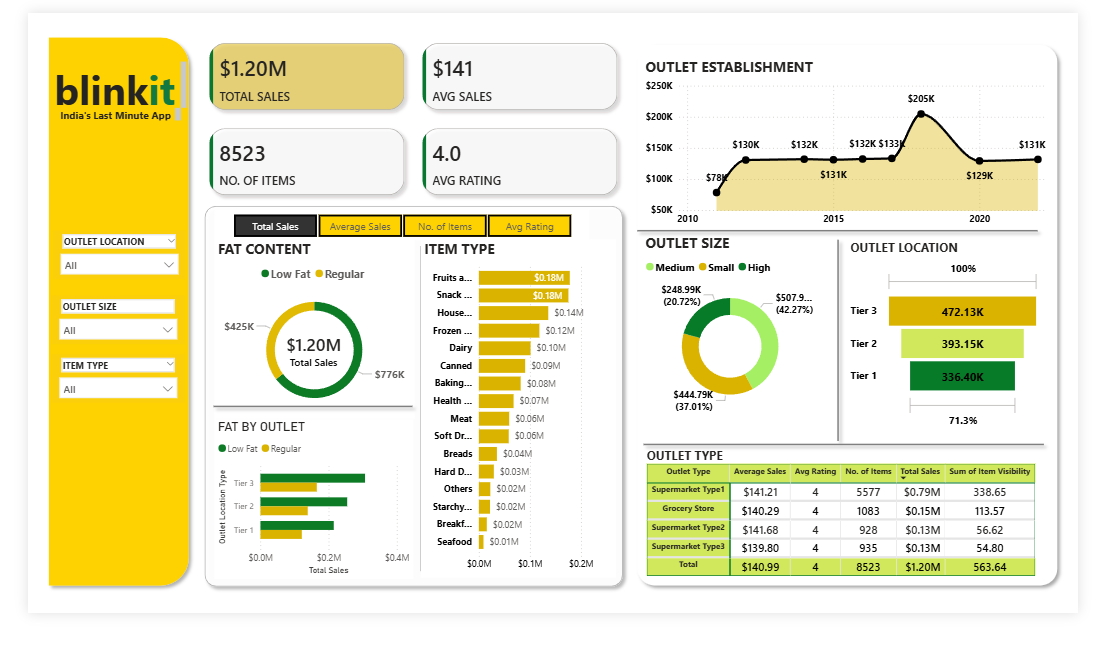

This screenshot's page, from the dashboard's own definition file:
{"tool":"powerbi","page":{"name":"Page 1","canvas":[1400,800],"ordinal":0},"visuals":[{"type":"shape","box":[18.8,24.1,205.1,749.3],"z":0},{"type":"textbox","box":[29.5,59.3,186.3,76.4],"z":1000},{"type":"textbox","box":[37.5,122.4,170.2,26.8],"z":2000},{"type":"cardVisual","fields":{"Data":["Blinkit Grocery Data.Total Sales","Blinkit Grocery Data.Average Sales","Blinkit Grocery Data.No. of Items","Blinkit Grocery Data.Avg Rating"]},"box":[224.3,23.6,578.4,237.6],"z":3000},{"type":"shape","box":[227.2,247.9,575.5,525.3],"z":4000},{"type":"slicer","fields":{"Values":["Metrics.Metrics"]},"box":[247.9,261.2,500.2,41.3],"z":5000},{"type":"donutChart","title":"FAT CONTENT","fields":{"Y":["Blinkit Grocery Data.Total Sales"],"Category":["Blinkit Grocery Data.Item Fat Content"]},"box":[247.9,302.5,267.1,239],"z":6000},{"type":"cardVisual","fields":{"Data":["Blinkit Grocery Data.Total Sales"]},"box":[337.9,422,85.6,56.1],"z":7000},{"type":"clusteredBarChart","title":"FAT BY OUTLET","fields":{"Y":["Blinkit Grocery Data.Total Sales"],"Category":["Blinkit Grocery Data.Outlet Location Type"],"Series":["Blinkit Grocery Data.Item Fat Content"]},"box":[247.9,541.5,265.6,212.5],"z":8000},{"type":"shape","box":[239,509.1,283.3,32.5],"z":9000},{"type":"shape","box":[515,302.5,13.3,451.5],"z":10000},{"type":"barChart","title":"ITEM TYPE","fields":{"Y":["Blinkit Grocery Data.Total Sales"],"Category":["Blinkit Grocery Data.Item Type"]},"box":[523.8,302.5,261.2,451.5],"z":11000},{"type":"shape","box":[802.7,33.9,578.4,739.3],"z":12000},{"type":"lineChart","title":"OUTLET ESTABLISHMENT","fields":{"Category":["Blinkit Grocery Data.Outlet Establishment Year"],"Y":["Blinkit Grocery Data.Total Sales"]},"box":[818.9,59,547.4,234.6],"z":13000},{"type":"donutChart","title":"OUTLET SIZE","fields":{"Y":["Blinkit Grocery Data.Total Sales"],"Category":["Blinkit Grocery Data.Outlet Size"]},"box":[818.9,293.6,236.1,247.9],"z":14000},{"type":"funnel","title":"OUTLET LOCATION","fields":{"Y":["Sum(Blinkit Grocery Data.Sales)"],"Category":["Blinkit Grocery Data.Outlet Location Type"]},"box":[1091.9,302.5,262.6,256.7],"z":15000},{"type":"pivotTable","title":"OUTLET TYPE","fields":{"Rows":["Blinkit Grocery Data.Outlet Type"],"Values":["Blinkit Grocery Data.Average Sales","Blinkit Grocery Data.Avg Rating","Blinkit Grocery Data.No. of Items","Blinkit Grocery Data.Total Sales","Sum(Blinkit Grocery Data.Item Visibility)"]},"box":[820.4,578.4,547.4,194.8],"z":16000},{"type":"shape","box":[1055,293.6,50.2,286.3],"z":17000},{"type":"shape","box":[802.7,267.1,551.9,47.2],"z":18000},{"type":"shape","box":[811.6,551.9,551.9,47.2],"z":19000},{"type":"slicer","fields":{"Values":["Blinkit Grocery Data.Outlet Location Type"]},"box":[33.9,290.7,177.1,64.9],"z":20000},{"type":"slicer","fields":{"Values":["Blinkit Grocery Data.Outlet Size"]},"box":[32.5,376.3,177.1,64.9],"z":21000},{"type":"slicer","fields":{"Values":["Blinkit Grocery Data.Item Type"]},"box":[32.5,454.5,177.1,64.9],"z":22000}]}

Visuals, with their boxes in screenshot pixels (x1, y1, x2, y2), scaled from the page's 1400x800 canvas onto the 1106x645 screenshot:
shape: {"left": 15, "top": 19, "right": 177, "bottom": 624}
textbox: {"left": 23, "top": 48, "right": 170, "bottom": 109}
textbox: {"left": 30, "top": 99, "right": 164, "bottom": 120}
cardVisual - Blinkit Grocery Data.Total Sales x Blinkit Grocery Data.Average Sales: {"left": 177, "top": 19, "right": 634, "bottom": 211}
shape: {"left": 179, "top": 200, "right": 634, "bottom": 623}
slicer - Metrics.Metrics: {"left": 196, "top": 211, "right": 591, "bottom": 244}
"FAT CONTENT" donutChart: {"left": 196, "top": 244, "right": 407, "bottom": 437}
cardVisual - Blinkit Grocery Data.Total Sales: {"left": 267, "top": 340, "right": 335, "bottom": 385}
"FAT BY OUTLET" clusteredBarChart: {"left": 196, "top": 437, "right": 406, "bottom": 608}
shape: {"left": 189, "top": 410, "right": 413, "bottom": 437}
shape: {"left": 407, "top": 244, "right": 417, "bottom": 608}
"ITEM TYPE" barChart: {"left": 414, "top": 244, "right": 620, "bottom": 608}
shape: {"left": 634, "top": 27, "right": 1091, "bottom": 623}
"OUTLET ESTABLISHMENT" lineChart: {"left": 647, "top": 48, "right": 1079, "bottom": 237}
"OUTLET SIZE" donutChart: {"left": 647, "top": 237, "right": 833, "bottom": 437}
"OUTLET LOCATION" funnel: {"left": 863, "top": 244, "right": 1070, "bottom": 451}
"OUTLET TYPE" pivotTable: {"left": 648, "top": 466, "right": 1081, "bottom": 623}
shape: {"left": 833, "top": 237, "right": 873, "bottom": 468}
shape: {"left": 634, "top": 215, "right": 1070, "bottom": 253}
shape: {"left": 641, "top": 445, "right": 1077, "bottom": 483}
slicer - Blinkit Grocery Data.Outlet Location Type: {"left": 27, "top": 234, "right": 167, "bottom": 287}
slicer - Blinkit Grocery Data.Outlet Size: {"left": 26, "top": 303, "right": 166, "bottom": 356}
slicer - Blinkit Grocery Data.Item Type: {"left": 26, "top": 366, "right": 166, "bottom": 419}
